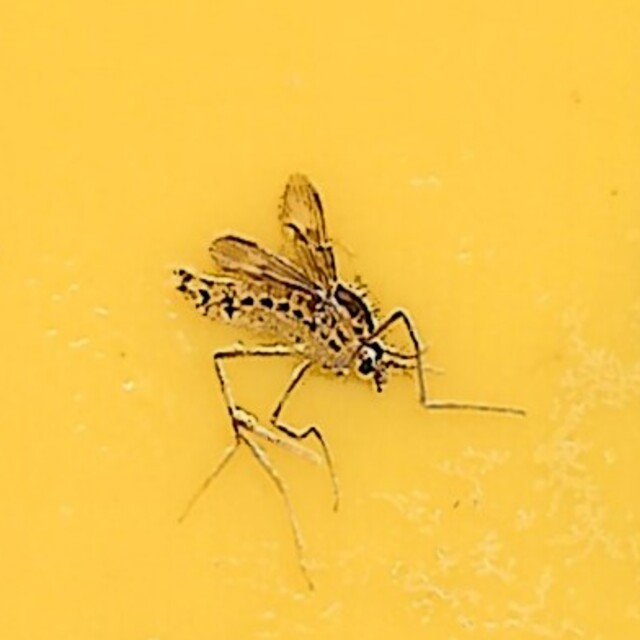Nematocera: (163, 174, 477, 466)
